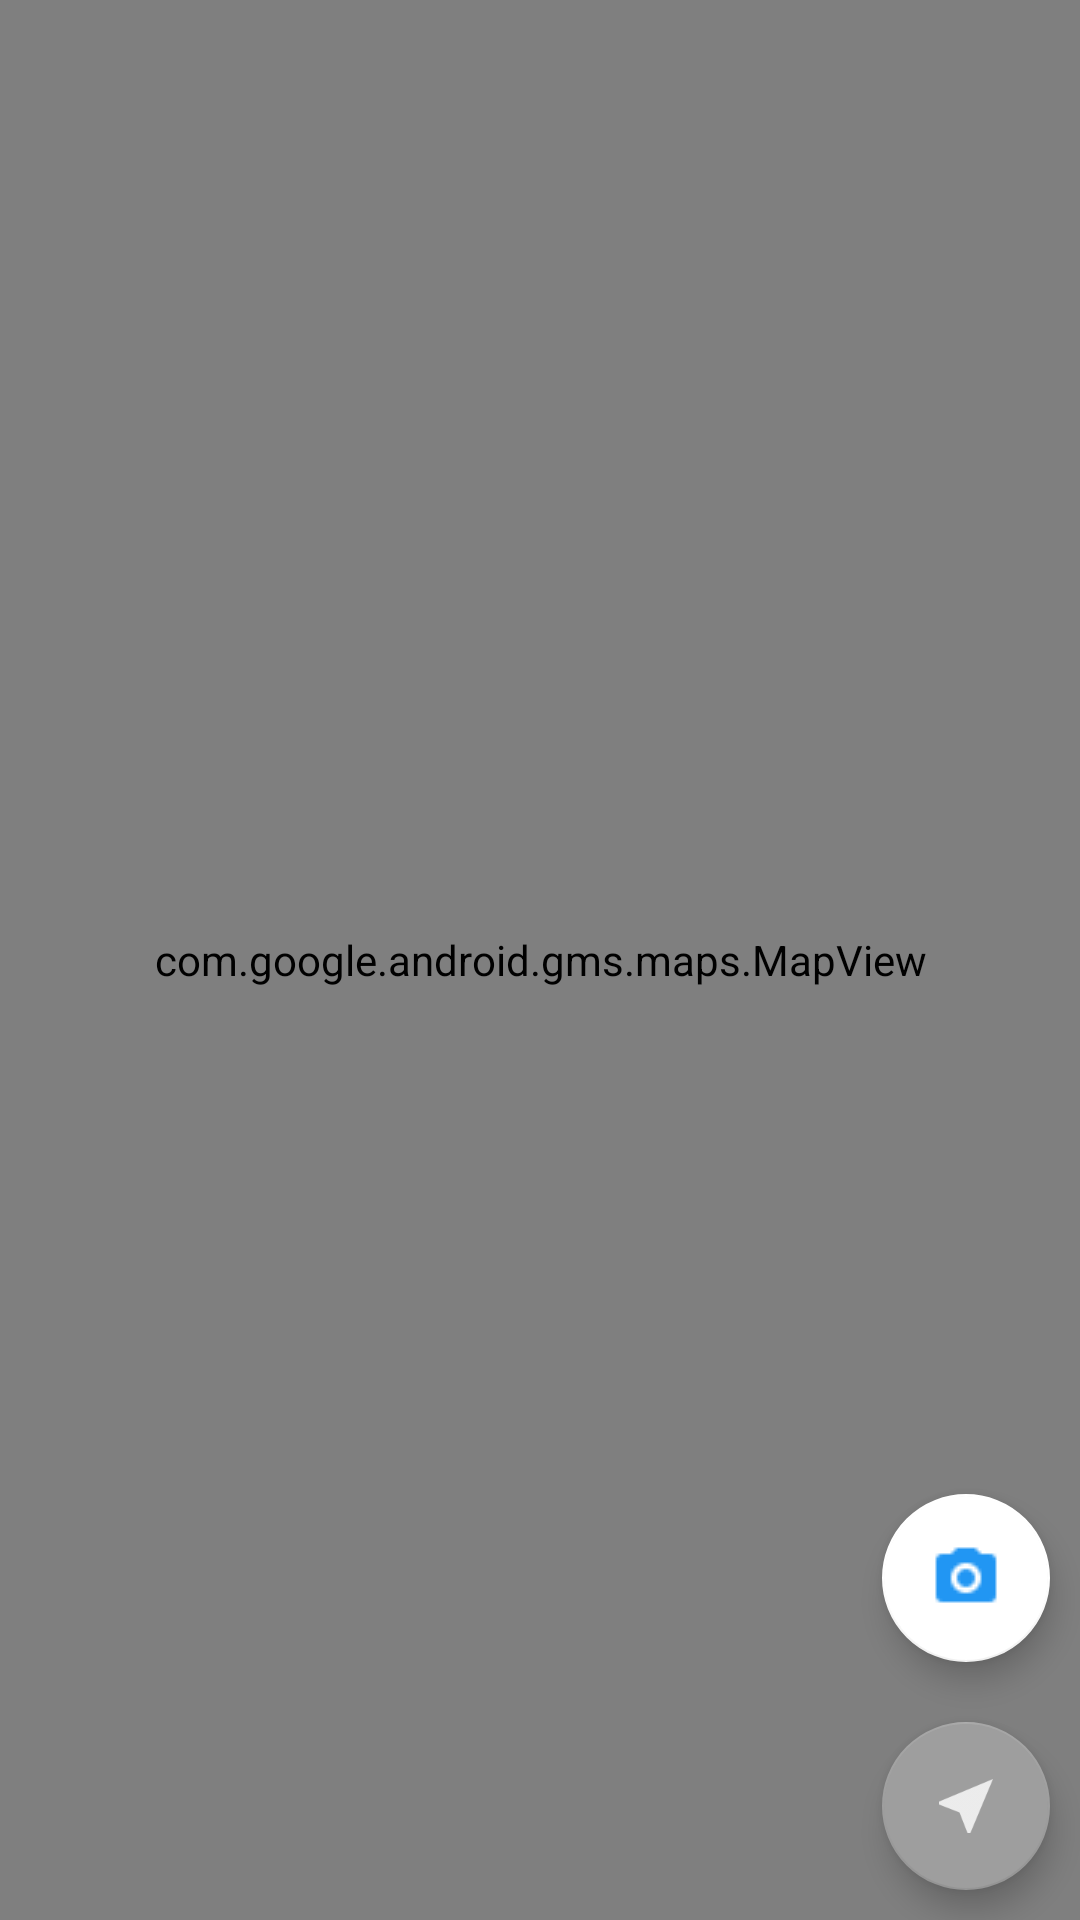

Named icons in this screenshot (1080px x 1920px) and their centers, (x,y):
camera: (966,1578)
near me: (966,1806)
